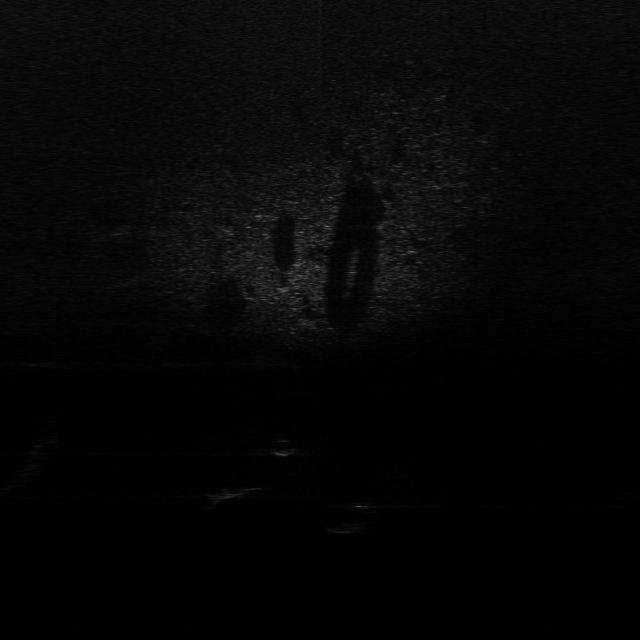ball: (266, 435, 296, 458)
square cage: (199, 484, 257, 502)
tyre: (326, 502, 380, 536)
